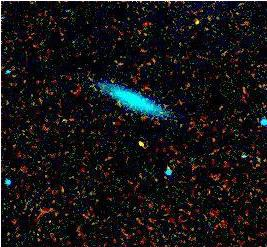star: (127, 125, 157, 155)
